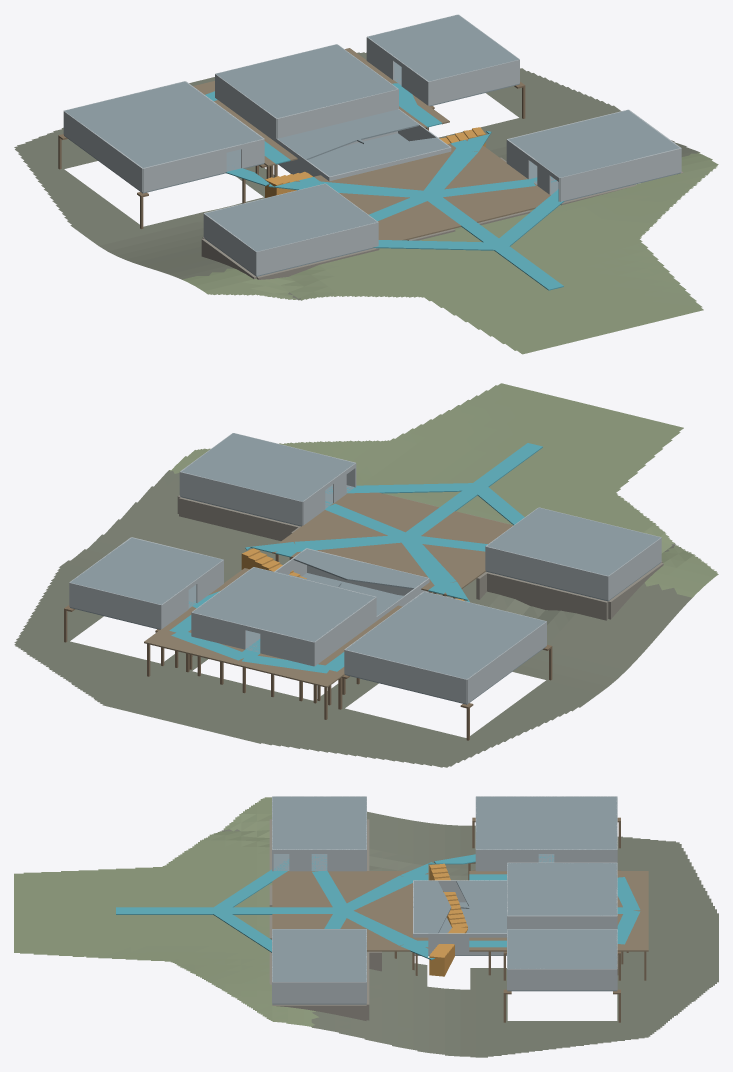
Rendered from closed-floors.glb.
3 views of the same model, one above another, from view 1: azimuth 30°, elevation 25°; view 2: azimuth 150°, elevation 25°; view 3: azimuth 270°, elevation 25° (orthographic). The views are drawn at different scales.
Parts seen in each view (by area): view 1: Saved editor macroterrain WLD-06, Ceiling cap boathouse, Ceiling cap fish, Ceiling cap cottage-a, Ceiling cap cottage-b, Ceiling cap net, Wall cottage-a S, Wall cottage-b S, Wall fish S, Wall net S, Wall boathouse S, Wall boathouse W (+24 smaller); view 2: Saved editor macroterrain WLD-06, Ceiling cap boathouse, Ceiling cap fish, Ceiling cap cottage-b, Ceiling cap cottage-a, Ceiling cap net, Wall cottage-a N, Wall boathouse N, Wall cottage-b N, Wall net N, Wall boathouse W, Wall fish W (+16 smaller); view 3: Saved editor macroterrain WLD-06, Ceiling cap boathouse, Ceiling cap fish, Ceiling cap cottage-a, Ceiling cap cottage-b, Ceiling cap net, Wall net E, Wall cottage-b E, Wall fish E, Wall boathouse E.001, Wall undercroft E, Ceiling cap undercroft (+20 smaller).
Part boxes in pixels (bbox=[...]): Saved editor macroterrain WLD-06: bbox=[14, 52, 718, 354]; Ceiling cap boathouse: bbox=[64, 81, 263, 167]; Ceiling cap fish: bbox=[216, 44, 397, 118]; Ceiling cap cottage-a: bbox=[205, 184, 376, 251]; Ceiling cap cottage-b: bbox=[508, 110, 679, 177]; Ceiling cap net: bbox=[368, 15, 518, 81]; Wall cottage-a S: bbox=[256, 222, 378, 275]; Wall cottage-b S: bbox=[560, 148, 681, 201]; Wall fish S: bbox=[277, 89, 398, 138]; Wall net S: bbox=[428, 59, 519, 105]; Wall boathouse S: bbox=[143, 148, 226, 192]; Wall boathouse W: bbox=[63, 111, 142, 192]; Saved editor macroterrain WLD-06: bbox=[14, 383, 718, 767]; Ceiling cap boathouse: bbox=[345, 591, 545, 678]; Ceiling cap fish: bbox=[192, 567, 375, 641]; Ceiling cap cottage-b: bbox=[181, 433, 354, 501]; Ceiling cap cottage-a: bbox=[486, 507, 660, 575]; Ceiling cap net: bbox=[70, 538, 222, 604]; Wall cottage-a N: bbox=[485, 546, 608, 600]; Wall boathouse N: bbox=[344, 649, 466, 703]; Wall cottage-b N: bbox=[180, 471, 302, 525]; Wall net N: bbox=[69, 582, 161, 628]; Wall boathouse W: bbox=[467, 621, 546, 703]; Wall fish W: bbox=[314, 597, 376, 666]; Saved editor macroterrain WLD-06: bbox=[14, 797, 718, 1057]; Ceiling cap boathouse: bbox=[476, 796, 617, 849]; Ceiling cap fish: bbox=[507, 863, 617, 915]; Ceiling cap cottage-a: bbox=[272, 796, 366, 849]; Ceiling cap cottage-b: bbox=[272, 929, 366, 981]; Ceiling cap net: bbox=[507, 929, 617, 968]; Wall net E: bbox=[507, 968, 617, 990]; Wall cottage-b E: bbox=[272, 982, 366, 1003]; Wall fish E: bbox=[507, 915, 617, 928]; Wall boathouse E.001: bbox=[476, 849, 538, 871]; Wall undercroft E: bbox=[413, 933, 506, 955]; Ceiling cap undercroft: bbox=[469, 880, 506, 906].
Bounding box in the file's own units: 70 × 7.86 × 90.
